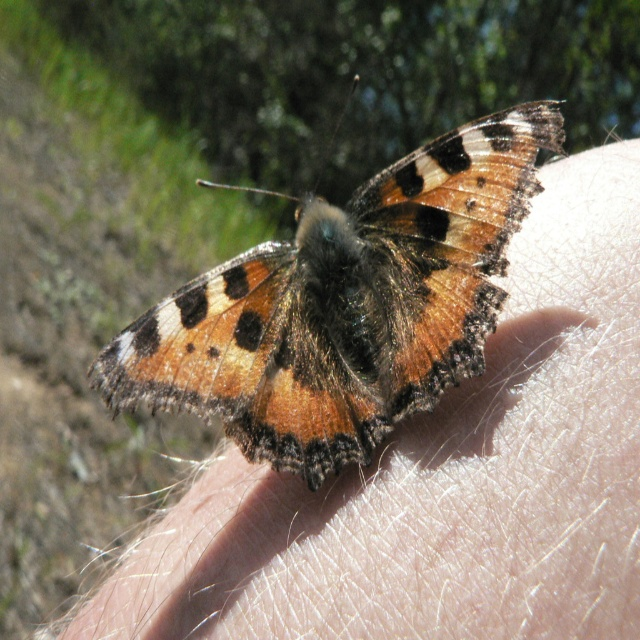Butterfly: (86, 73, 568, 492)
